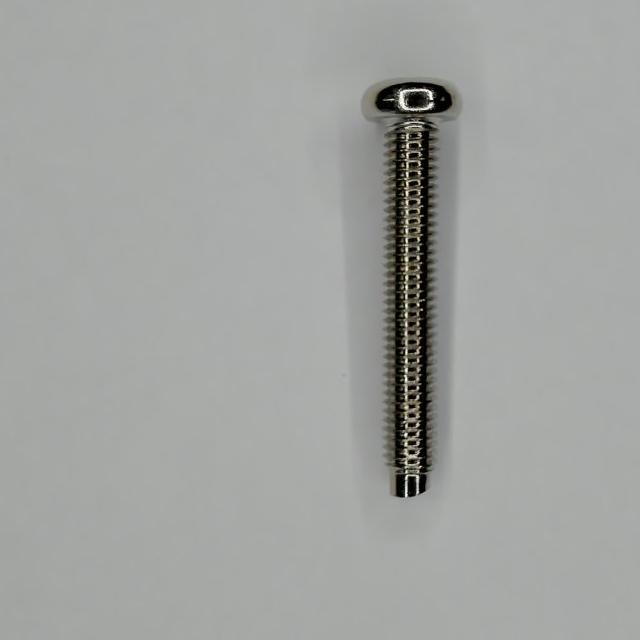Screw: (363, 78, 461, 498)
